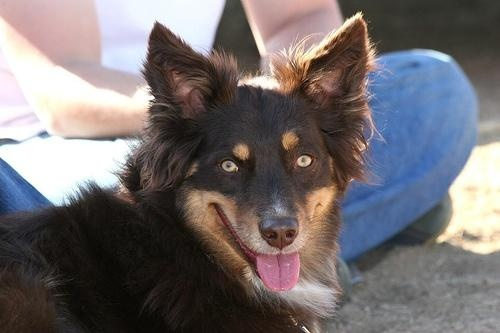dog: (1, 12, 393, 333)
